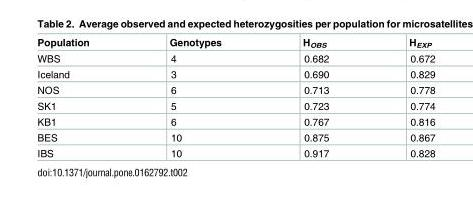table: (36, 37, 434, 158)
table column: (128, 37, 261, 158), (261, 37, 368, 158), (36, 37, 128, 158), (368, 37, 434, 158)
table column header: (36, 37, 434, 51)
table row: (36, 66, 434, 82), (36, 82, 434, 98), (36, 98, 434, 114), (36, 129, 434, 145), (36, 51, 434, 66), (36, 114, 434, 129), (36, 37, 434, 51), (36, 145, 434, 158)
